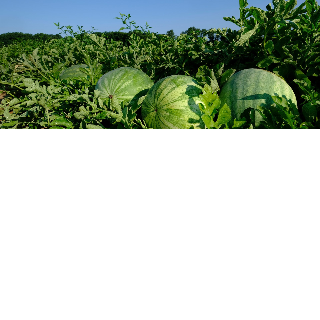dua_hau: (221, 67, 299, 129), (139, 69, 214, 133), (93, 64, 161, 119)
